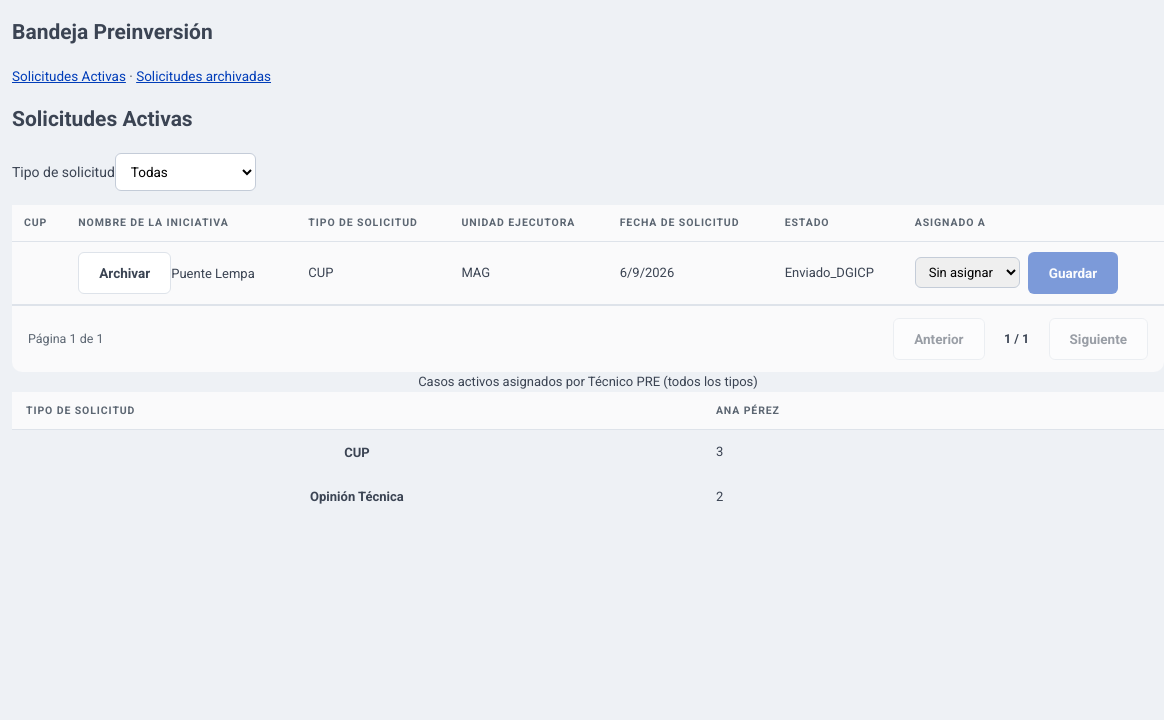
Test case: CU-PRE-02 Bandeja Preinversión › asigna después de confirmar y recarga la bandeja
The image size is (1164, 720).
Select "Ana Pérez" in the dropdown named "Asignado a Puente Lempa" at (967, 273), box [915,257,1020,288]
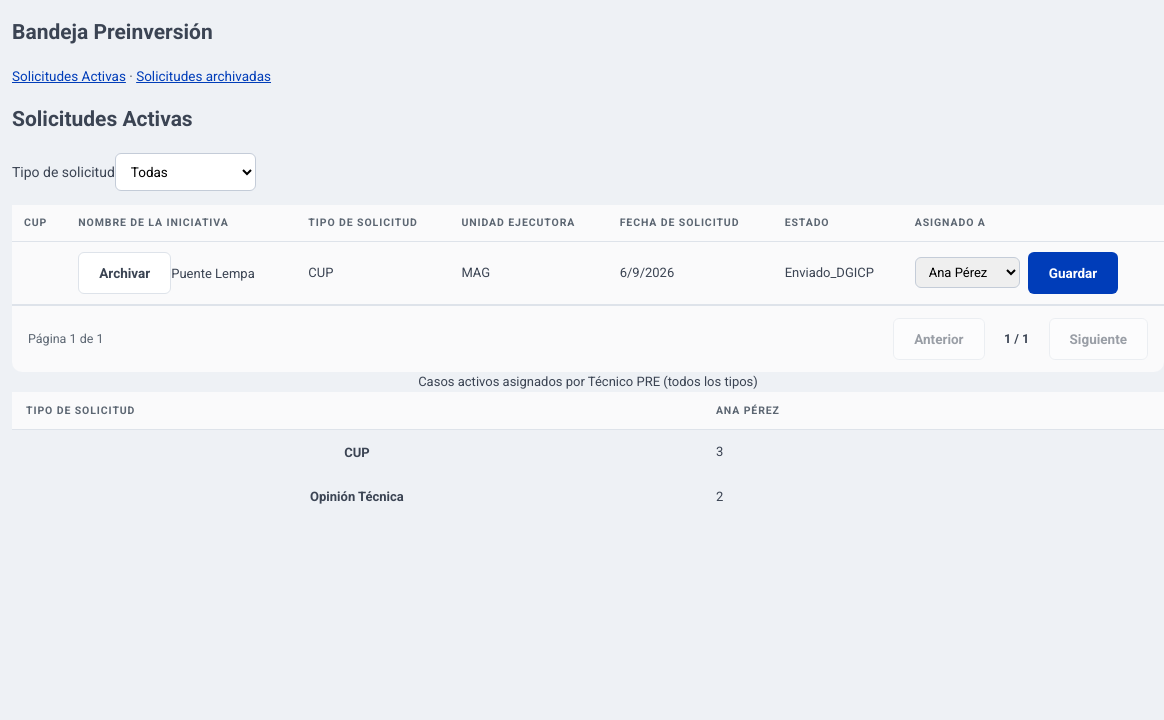
Click the button "Guardar" at (1073, 273), box [1028,252,1118,294]
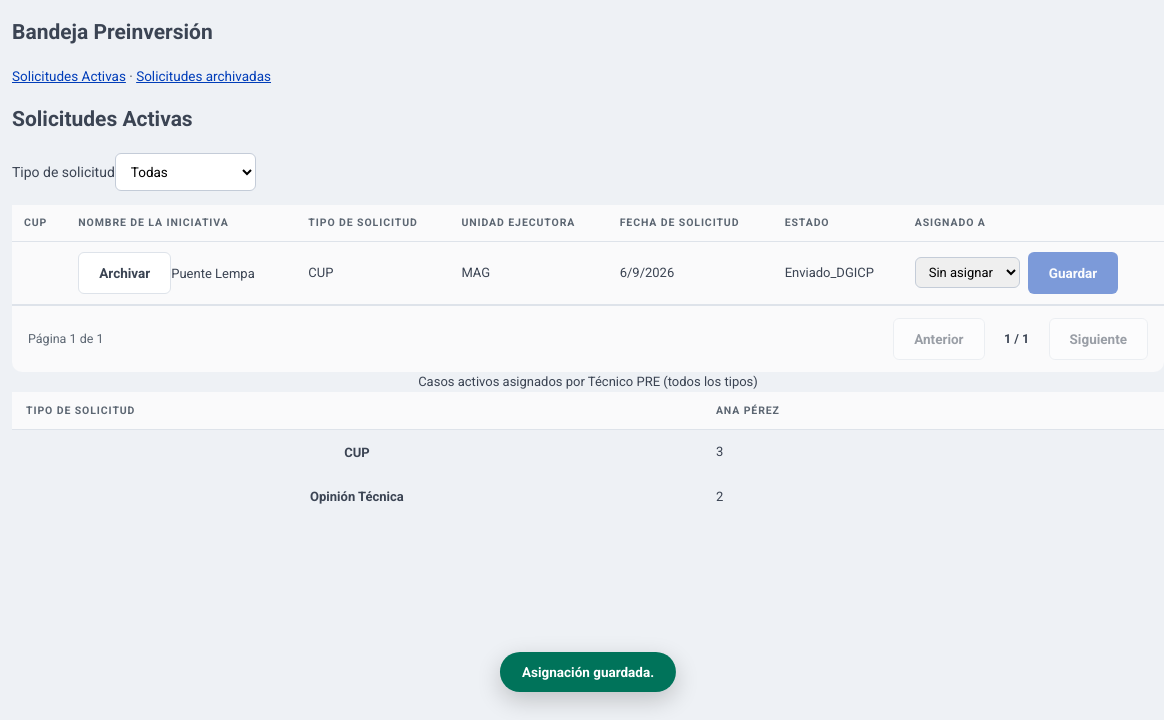
Expected: the text "Asignación guardada." is shown, [500,652,676,692]
